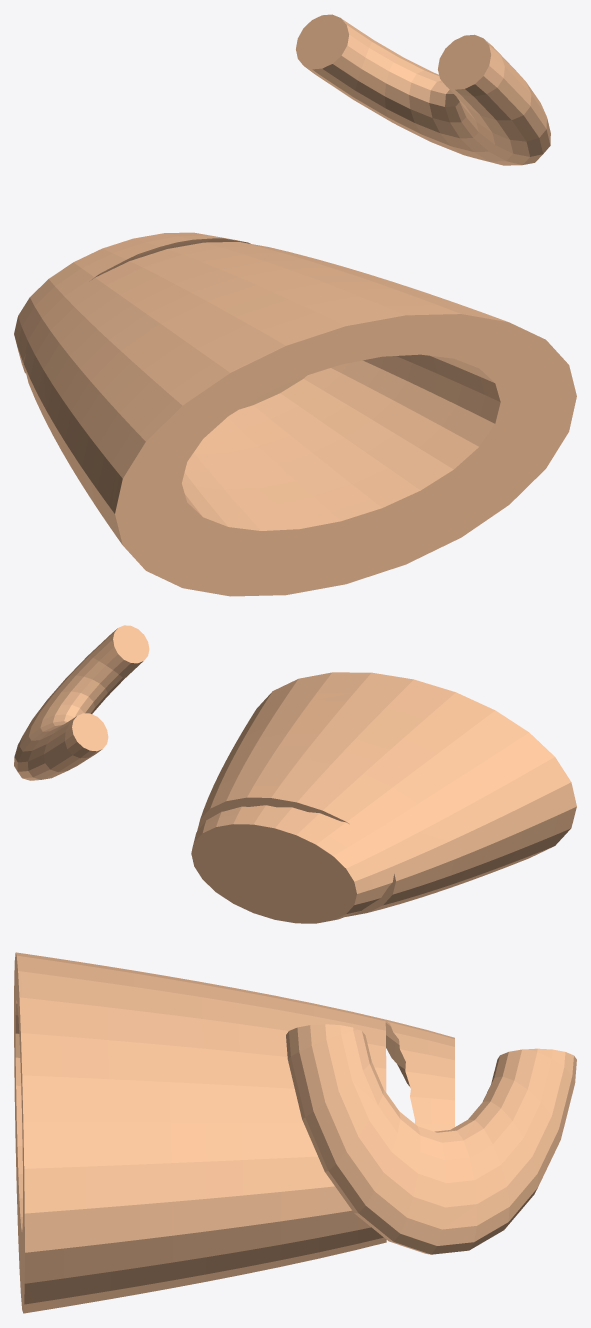
The model's file is tinker.obj.
3 renders of one model, top to bottom at view 1: azimuth 30°, elevation 25°; view 2: azimuth 150°, elevation 25°; view 3: azimuth 270°, elevation 25°, orthographic. The views are drawn at different scales.
Visible parts, largest first — view 1: obj_0; view 2: obj_0; view 3: obj_0.
Boxes of the visible parts, left/top/right/bottom form: obj_0: left=14, top=14, right=576, bottom=596; obj_0: left=14, top=625, right=576, bottom=923; obj_0: left=14, top=952, right=576, bottom=1313.
Bounding box in the file's own units: 47.11 × 27.28 × 35.74.
